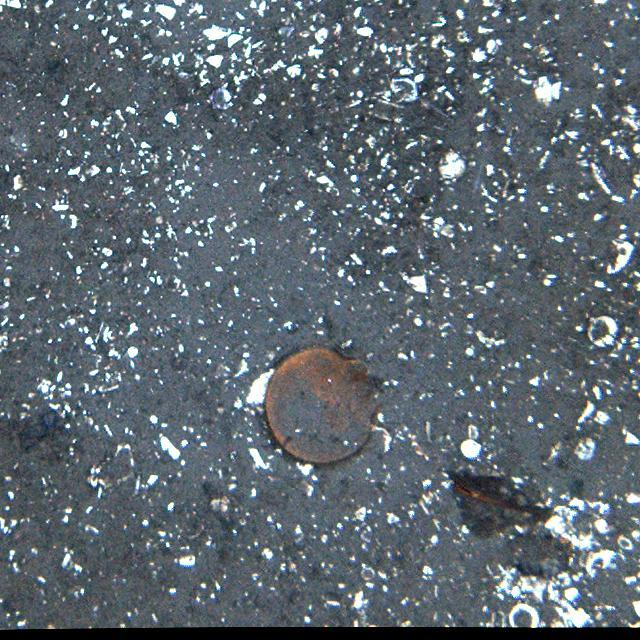scallop: (262, 344, 392, 465)
